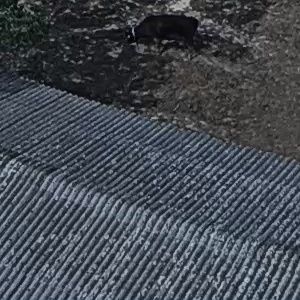cow: (123, 9, 222, 53)
